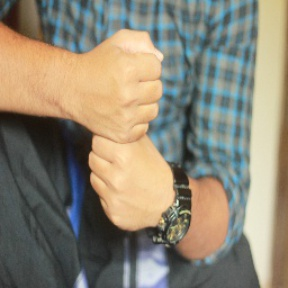G: (68, 26, 183, 232)
